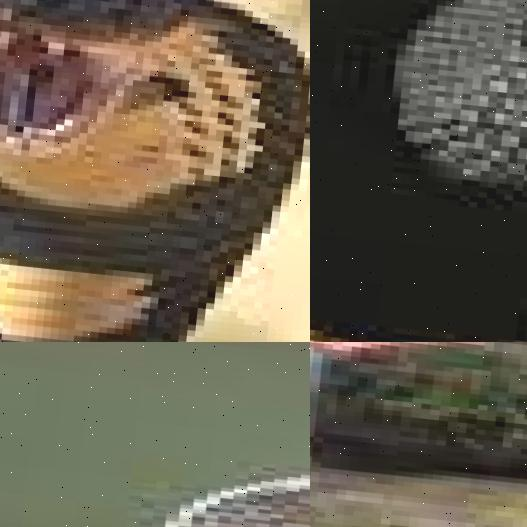snake: (0, 0, 310, 342), (310, 0, 527, 342), (0, 380, 310, 527)
